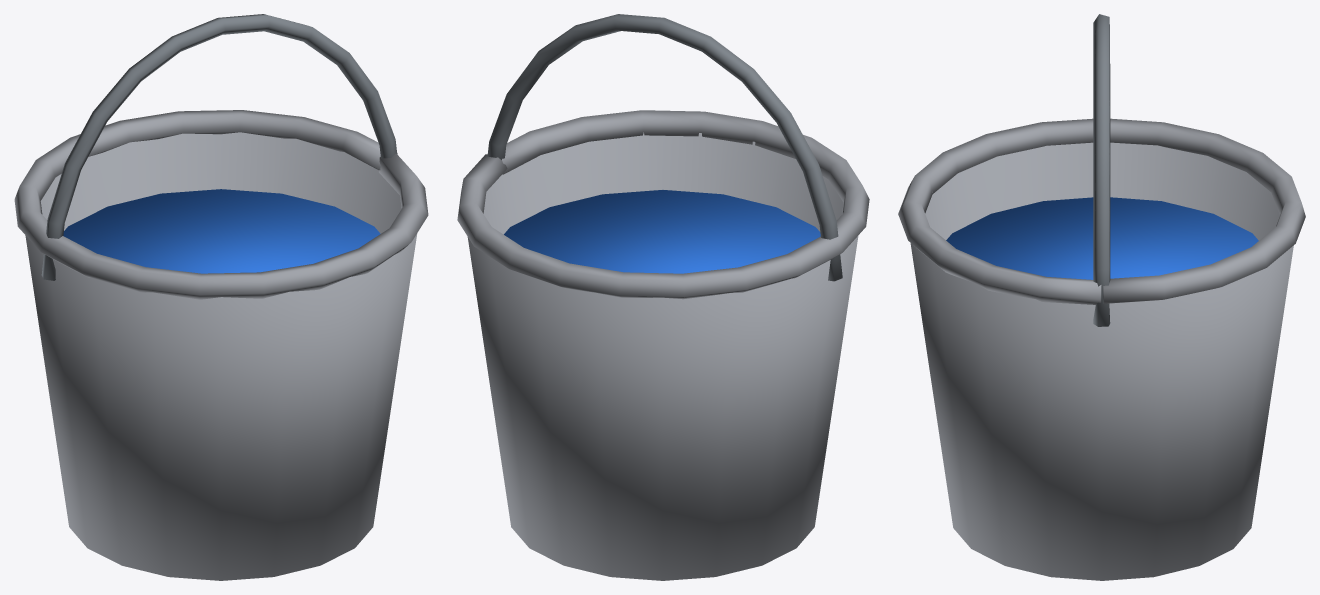
The model's file is bottomless_water_bucket.glb.
The picture shows the model from 3 angles, left to right: view 1: azimuth 30°, elevation 25°; view 2: azimuth 150°, elevation 25°; view 3: azimuth 270°, elevation 25°; orthographic projection.
Visible parts, largest first — view 1: bottomless_water_bucket_v0; view 2: bottomless_water_bucket_v0; view 3: bottomless_water_bucket_v0.
Boxes of the visible parts, x1,y1,x2,y2 form: bottomless_water_bucket_v0: (14, 14, 428, 580); bottomless_water_bucket_v0: (457, 14, 869, 580); bottomless_water_bucket_v0: (898, 14, 1305, 580).
Bounding box in the file's own units: 0.2696 × 0.3556 × 0.2693.
